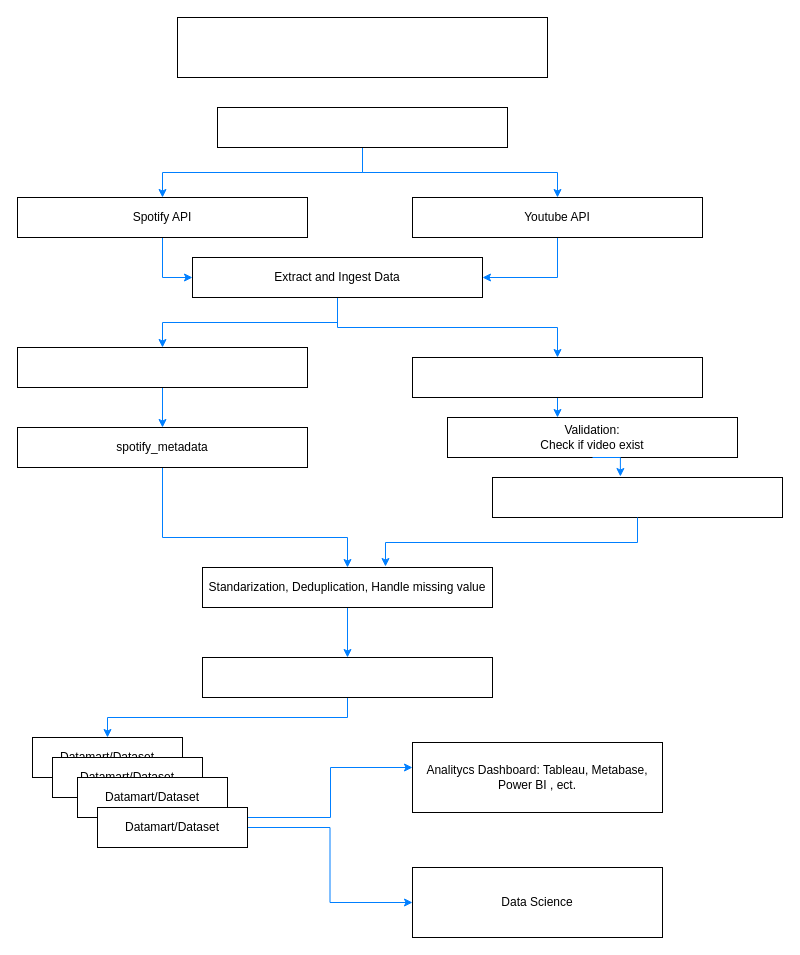
Some shapes in this 800 by 955 pixel diagram are drawn without their labels. The shapes that lost their labels are listed below. From the top down, each one's box as (x1, y1, x2, y2) in pixels, then its label:
(176, 16, 548, 78): ETL Data Flow Chart
(216, 106, 508, 148): Internal Song Data List
(16, 346, 308, 388): Validation: Check if song exist
(412, 356, 702, 398): youtube_metadata
(492, 476, 782, 518): Clean youtube_metadata
(202, 656, 492, 698): Clean Data
